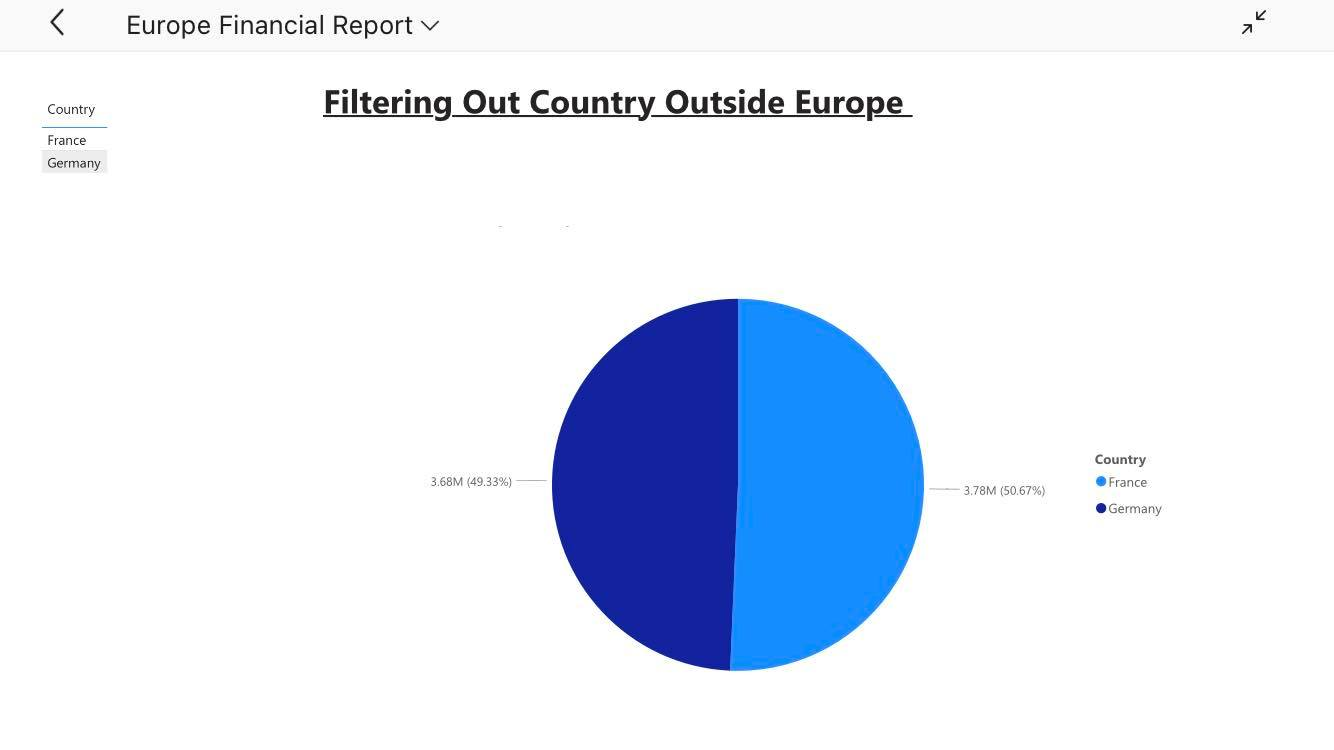

The page's visual inventory and layout, read from the dashboard file:
{"tool":"powerbi","page":{"name":"Filter","canvas":[1280,720],"ordinal":0},"visuals":[{"type":"tableEx","fields":{"Values":["financials.Country"]},"box":[34.3,41.2,695.7,526.9],"z":0},{"type":"pieChart","fields":{"Category":["financials.Country"],"Y":["Sum(financials.Profit)"]},"box":[363.6,153.7,773.9,518.7],"z":1},{"type":"textbox","box":[307.4,22,830.2,149.6],"z":2}]}

Visuals, with their boxes on the page's 1280x720 design canvas (x1, y1, x2, y2). These are canvas units, not pixel positions in the 1334x750 screenshot, which may show the page scaled, cropped or inside an application window:
tableEx - financials.Country: [x1=34, y1=41, x2=730, y2=568]
pieChart - financials.Country x Sum(financials.Profit): [x1=364, y1=154, x2=1138, y2=672]
textbox: [x1=307, y1=22, x2=1138, y2=172]
